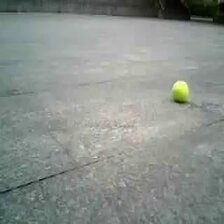tennis: (172, 81, 188, 102)
